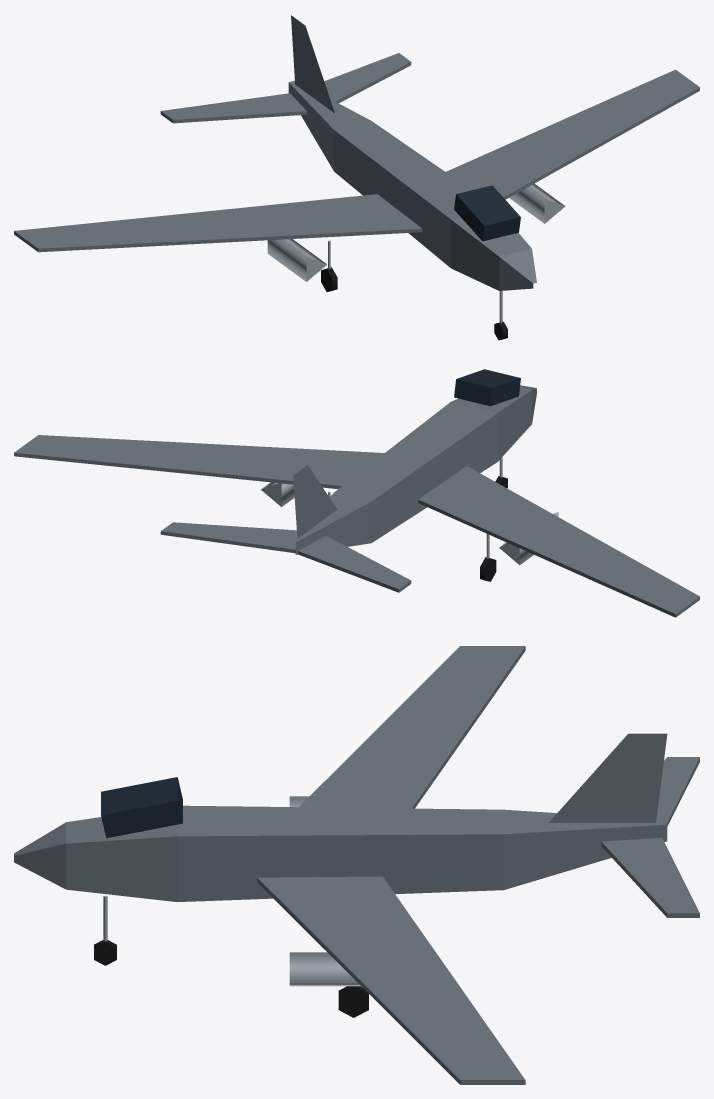
The model's file is veh_air_bomber_a07_lod2.glb.
3 views of the same model, one above another, from view 1: azimuth 30°, elevation 25°; view 2: azimuth 150°, elevation 25°; view 3: azimuth 270°, elevation 25° (orthographic). The views are drawn at different scales.
Parts seen in each view (by area): view 1: body; view 2: body, gear_1; view 3: body, gear_2, gear_0.
Part boxes in pixels (<box>): body: <box>14,15,699,290</box>; body: <box>14,369,699,617</box>; gear_1: <box>480,534,496,581</box>; body: <box>14,646,699,1084</box>; gear_2: <box>338,986,368,1017</box>; gear_0: <box>94,895,116,965</box>.
Size of the model in its own units: 23.32 by 5.8 by 15.58.
